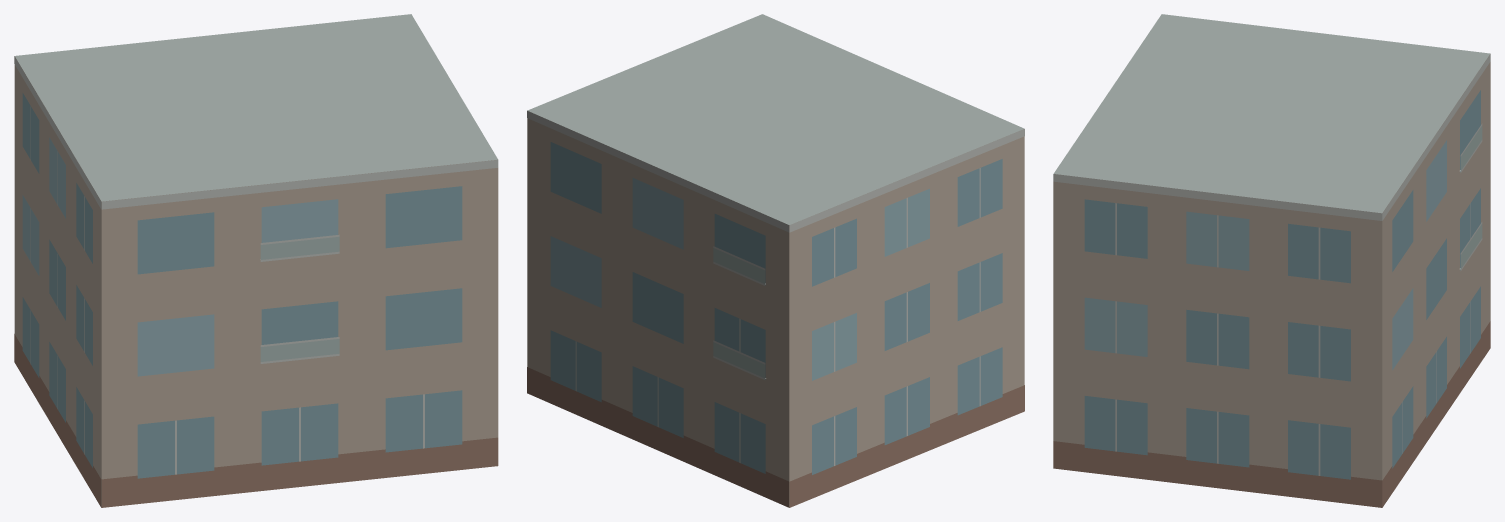
Rendered from survey-upis-32986122.glb.
3 renders of one model, left to right at view 1: azimuth 30°, elevation 25°; view 2: azimuth 150°, elevation 25°; view 3: azimuth 270°, elevation 25°, orthographic. The views are drawn at different scales.
Parts seen in each view (by area): view 1: survey-upis-32986122.tmp; view 2: survey-upis-32986122.tmp; view 3: survey-upis-32986122.tmp.
Part boxes in pixels (bbox=[...]): survey-upis-32986122.tmp: bbox=[14, 14, 498, 507]; survey-upis-32986122.tmp: bbox=[527, 14, 1024, 507]; survey-upis-32986122.tmp: bbox=[1053, 14, 1490, 507].
Bounding box in the file's own units: 13.43 × 9.25 × 12.45.
